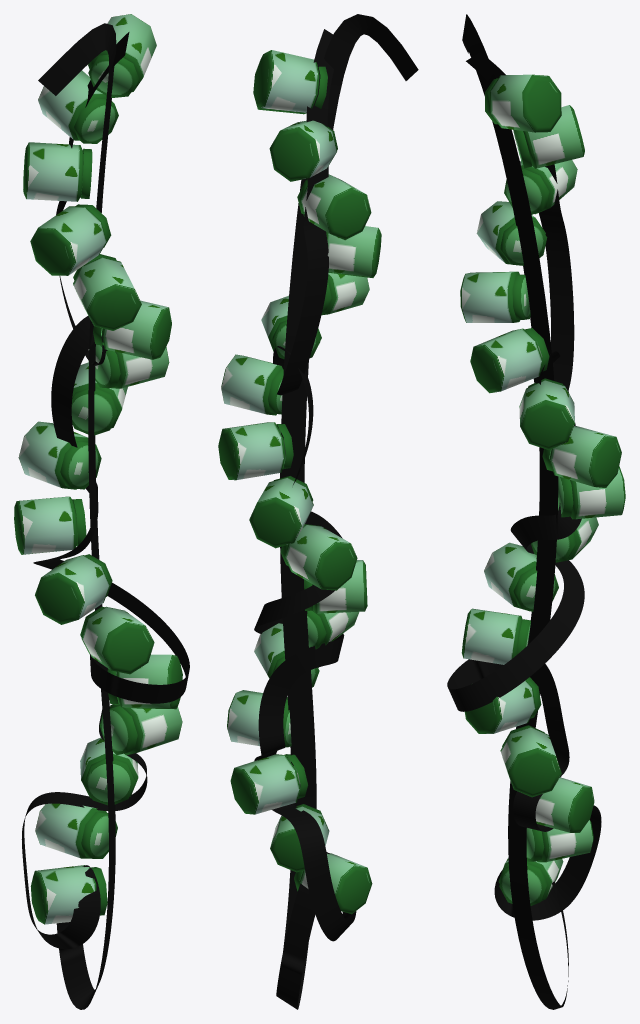
Rendered from Too Many Chewing Gum.fbx.
3 views of the same model, side by side, from view 1: azimuth 30°, elevation 25°; view 2: azimuth 150°, elevation 25°; view 3: azimuth 270°, elevation 25° (orthographic). The views are drawn at different scales.
Visible parts, largest first — view 1: Chewing Gums; view 2: Chewing Gums; view 3: Chewing Gums.
Boxes of the visible parts, <box> form: Chewing Gums: <box>14,14,189,1009</box>; Chewing Gums: <box>218,14,418,1009</box>; Chewing Gums: <box>447,14,625,1009</box>.
Size of the model in its own units: 0.6448 by 3.83 by 0.632.
